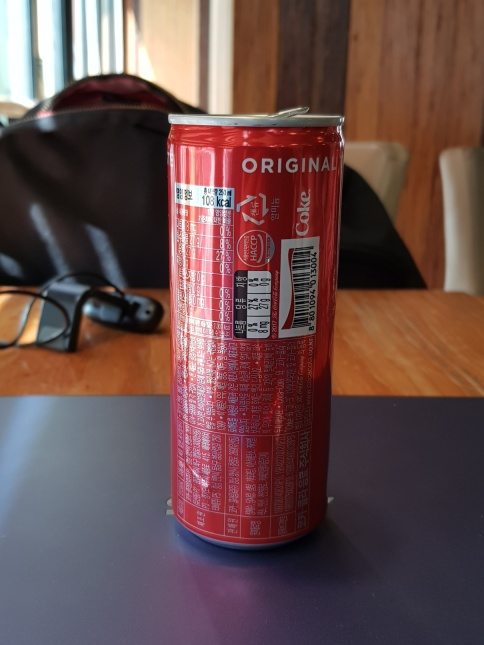Can: (160, 104, 345, 558)
